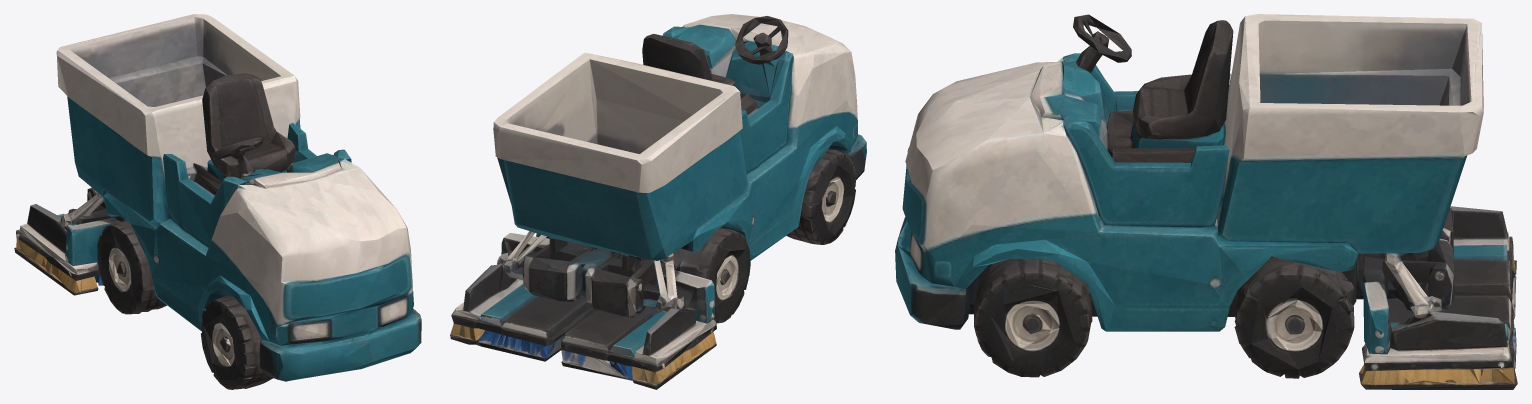
File: zamboni.glb
The picture shows the model from 3 angles, left to right: view 1: azimuth 30°, elevation 25°; view 2: azimuth 150°, elevation 25°; view 3: azimuth 270°, elevation 25°; orthographic projection. The views are drawn at different scales.
Size of the model in its own units: 1.75 by 1.91 by 3.6.
Materials: 1 (1 with a texture image).
